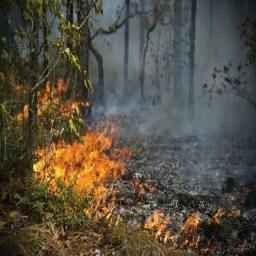Low smoke: (81, 0, 256, 164)
Small fire: (19, 83, 118, 223)
